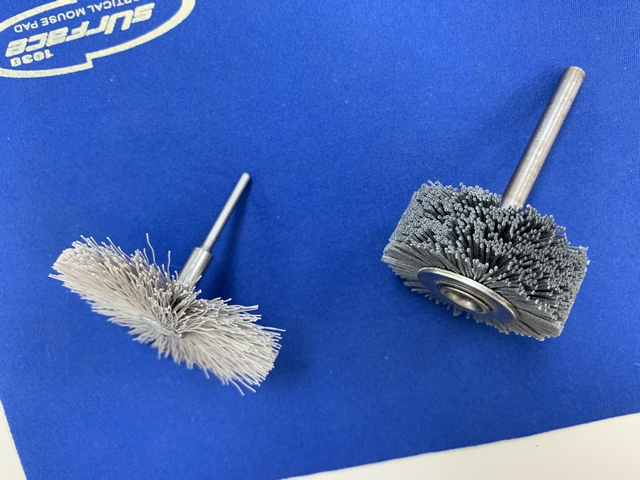TOOL: (46, 166, 317, 401)
Wheel Brush: (381, 19, 609, 361)
